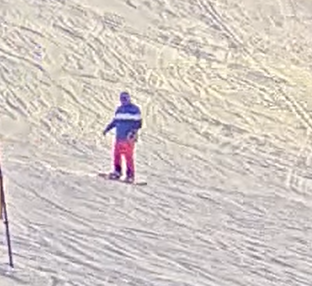snowboarder: (94, 84, 154, 191)
